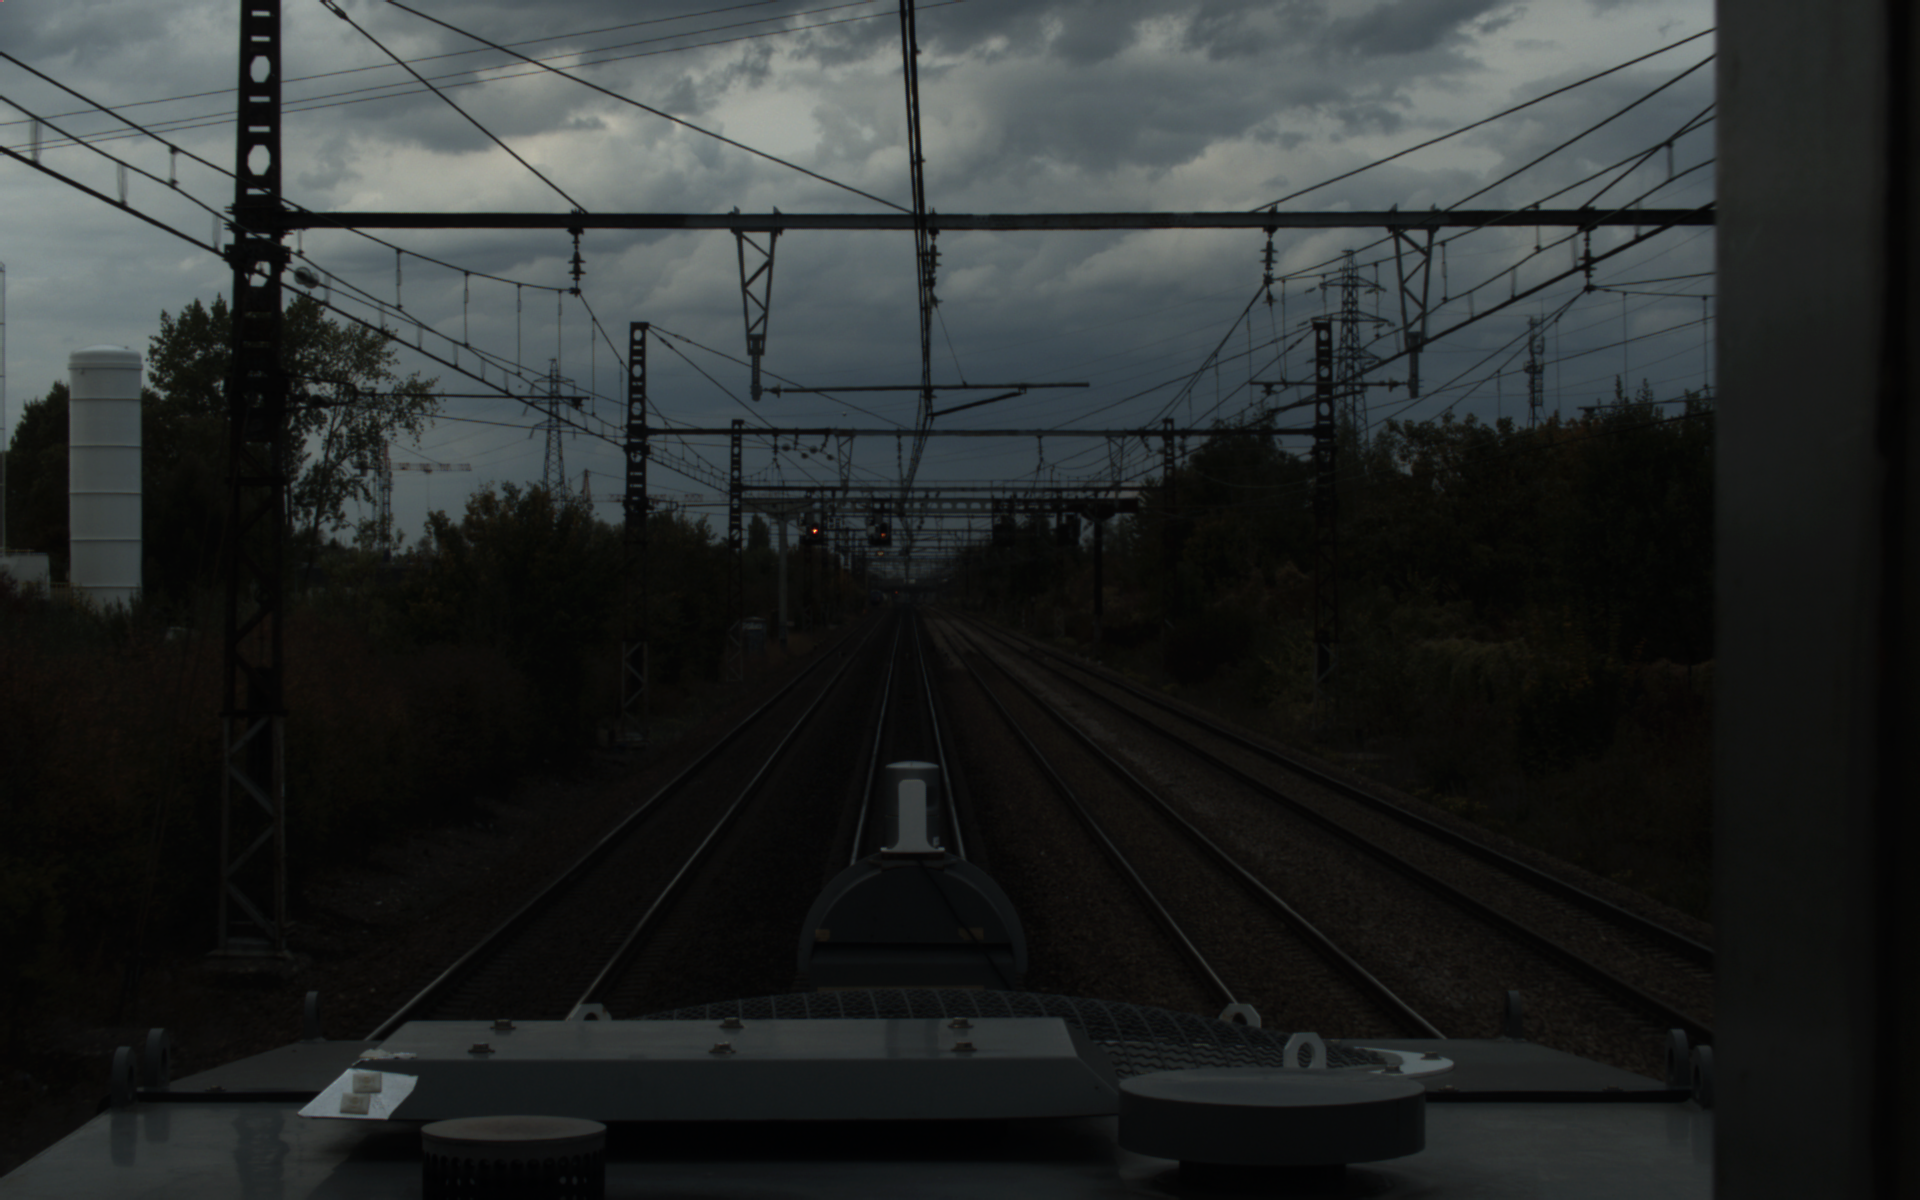Blinking: (876, 521, 890, 541)
Fixed: (807, 520, 822, 541)
